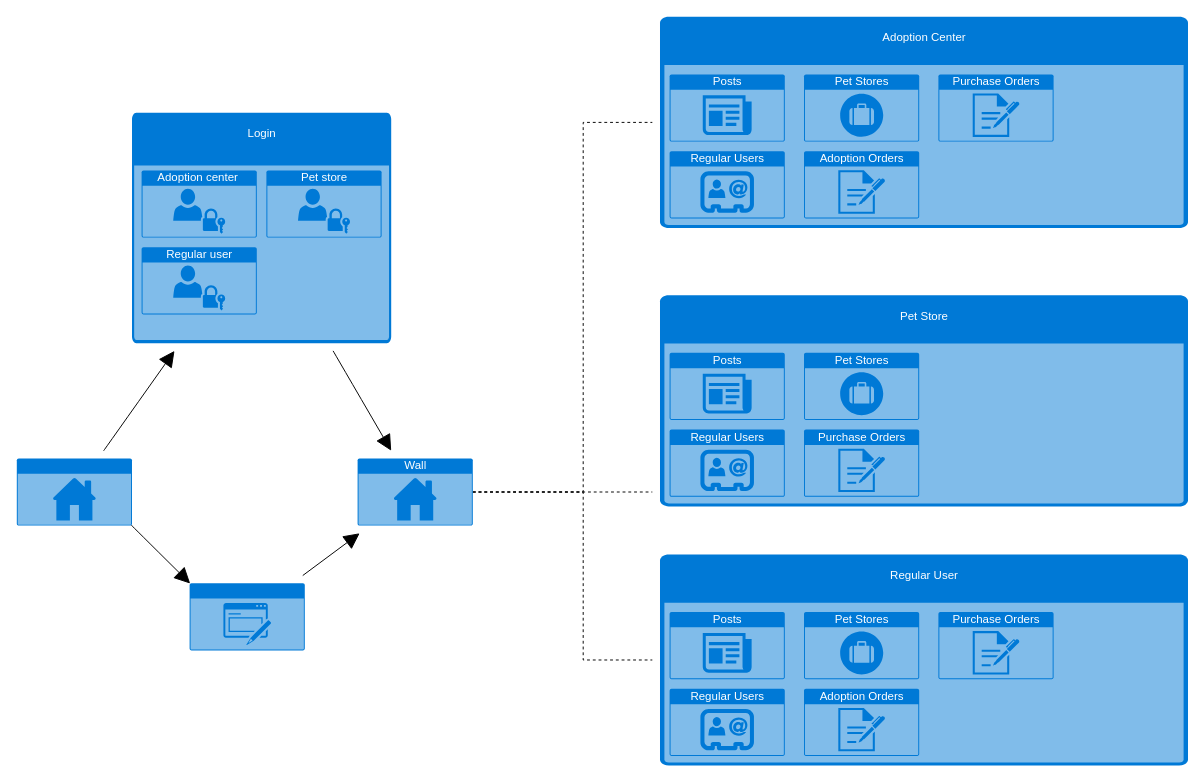
The diagram is 1204 pixels wide and 781 high, and some of its shapes have lost their labels. The shapes that lost their labels are listed below. From the top down, each one's centre as x and y in pixels, then its label:
At point 74,491: "PetsFriend".
At point 246,616: "Sign-in".
